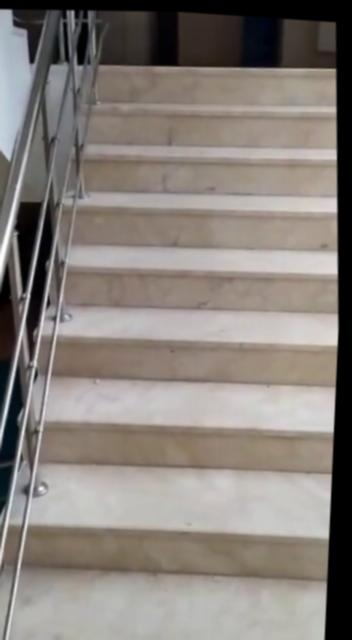Bench: (9, 39, 351, 640)
